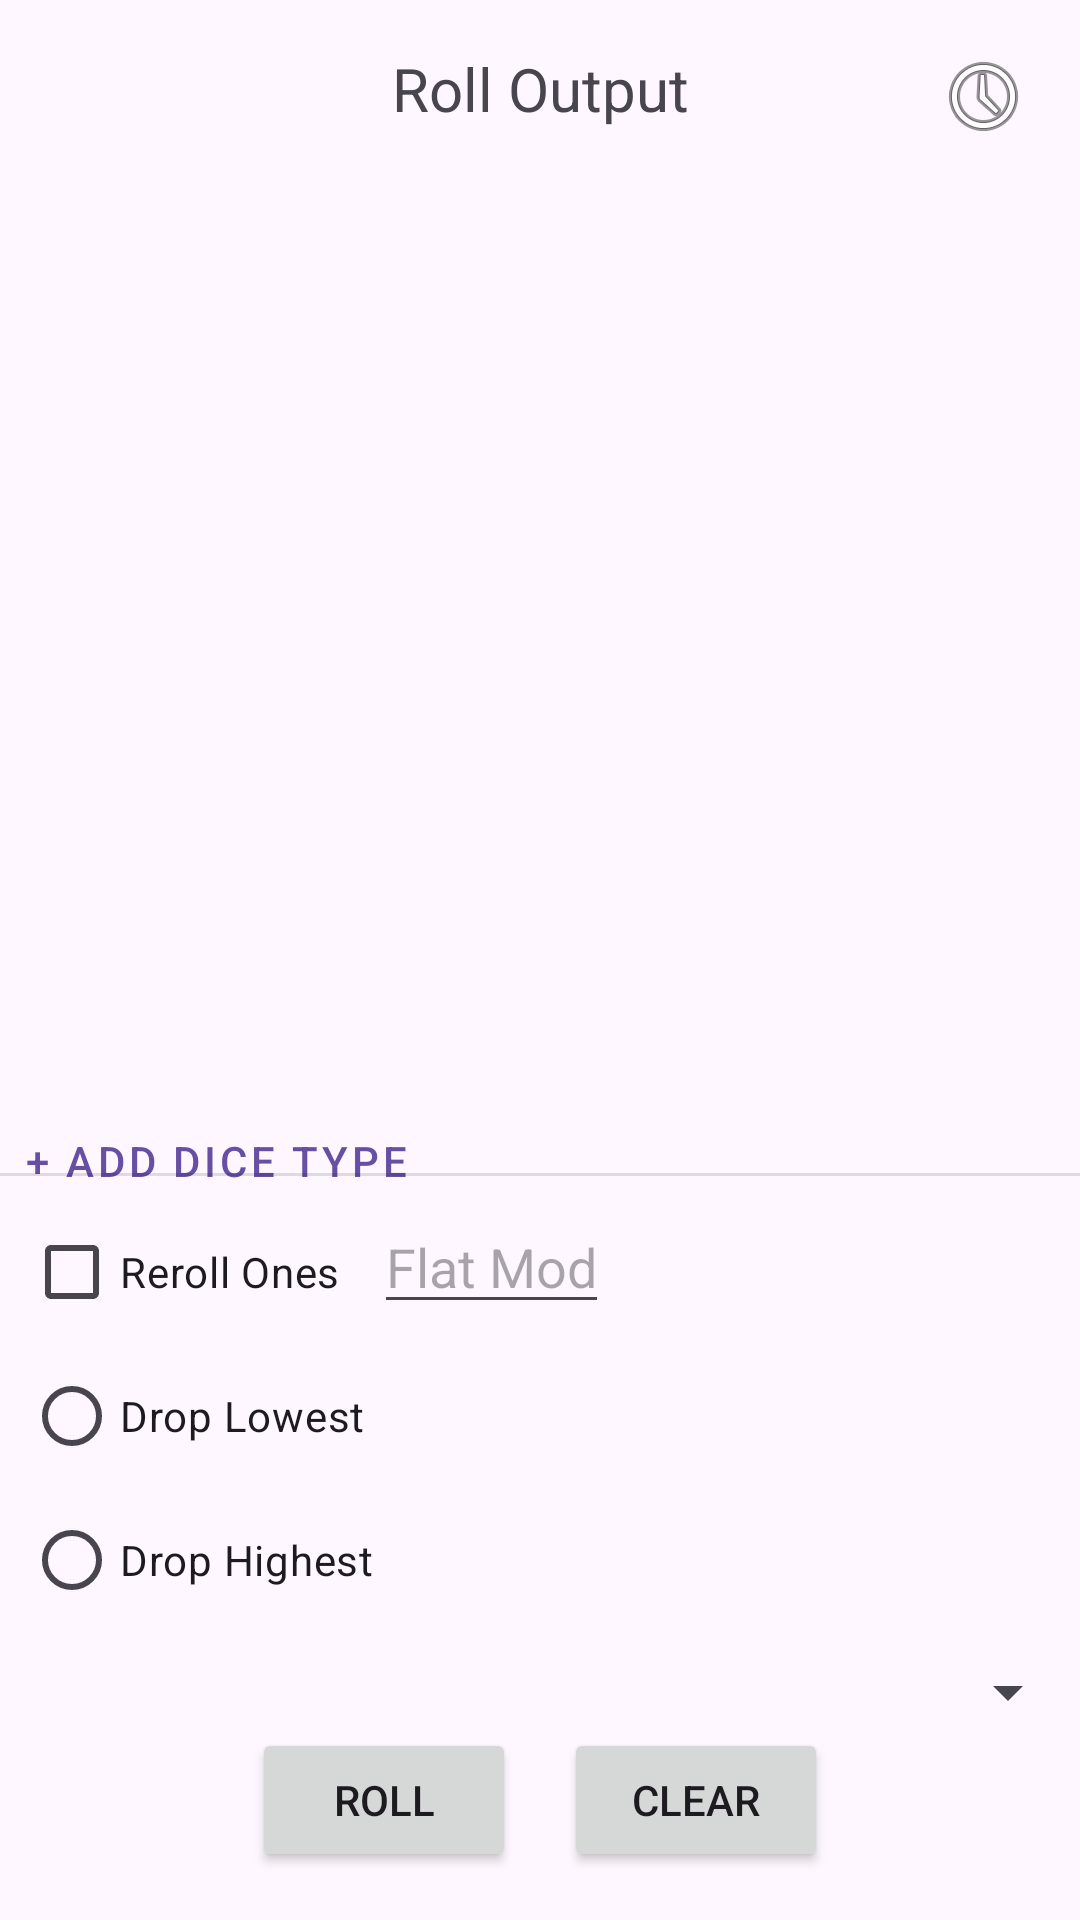

Point at icon controls on the screen. Image size 1080px x 1920px, points as (x,y).
recent history: (983,96)
